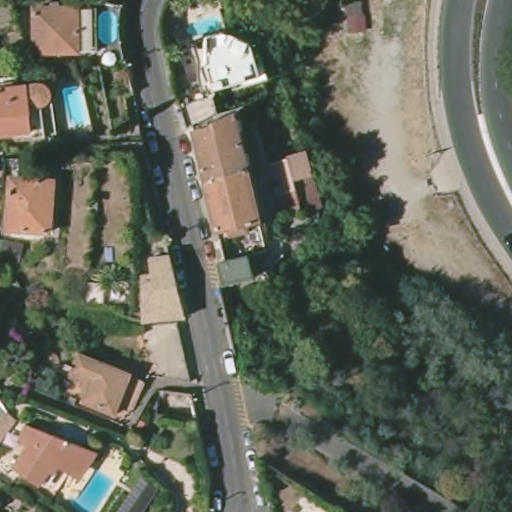pool: (73, 469, 114, 512), (64, 84, 91, 133), (183, 11, 224, 37), (98, 10, 122, 45)
